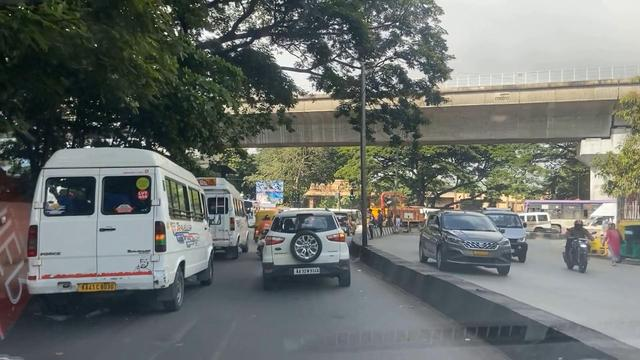HMV: (49, 144, 210, 313), (209, 177, 254, 257)
LMV: (266, 212, 350, 287)
